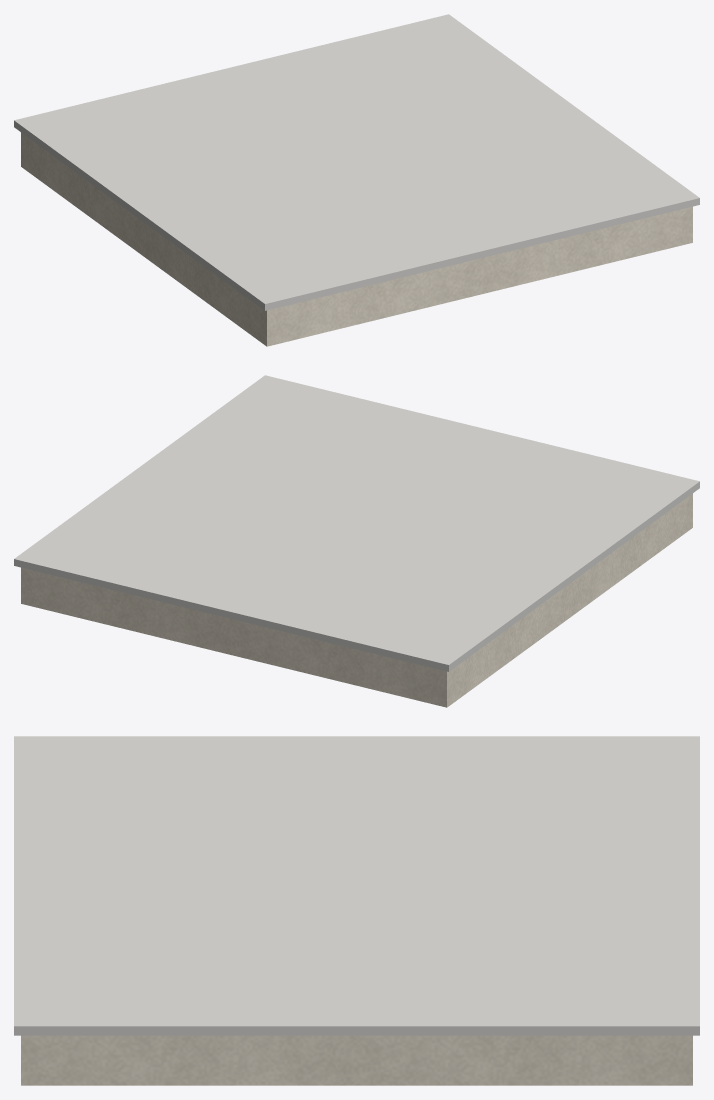
File: storage_floor.glb
3 views of the same model, one above another, from view 1: azimuth 30°, elevation 25°; view 2: azimuth 150°, elevation 25°; view 3: azimuth 270°, elevation 25° (orthographic). The views are drawn at different scales.
Parts seen in each view (by area): view 1: storage_floor_concrete, storage_floor_plaster; view 2: storage_floor_concrete, storage_floor_plaster; view 3: storage_floor_concrete, storage_floor_plaster.
Part boxes in pixels (x1,y1,x2,y2): storage_floor_concrete: (14,14,699,310); storage_floor_plaster: (21,132,692,346); storage_floor_concrete: (14,375,699,671); storage_floor_plaster: (21,493,692,707); storage_floor_concrete: (14,736,699,1035); storage_floor_plaster: (21,1035,692,1085).
Bounding box in the file's own units: 2 × 0.2 × 2.
2 materials, 1 textured.
